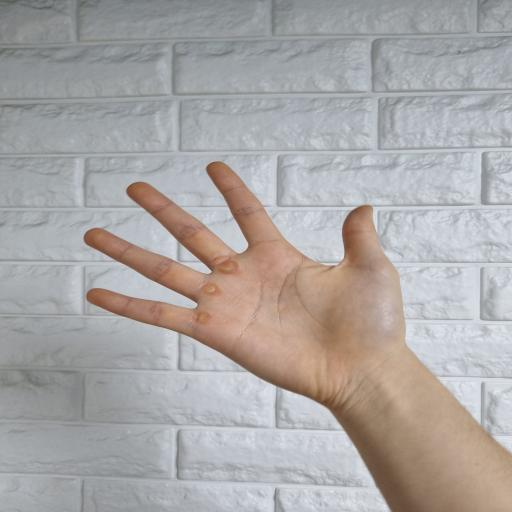Paper: (83, 161, 512, 512)
